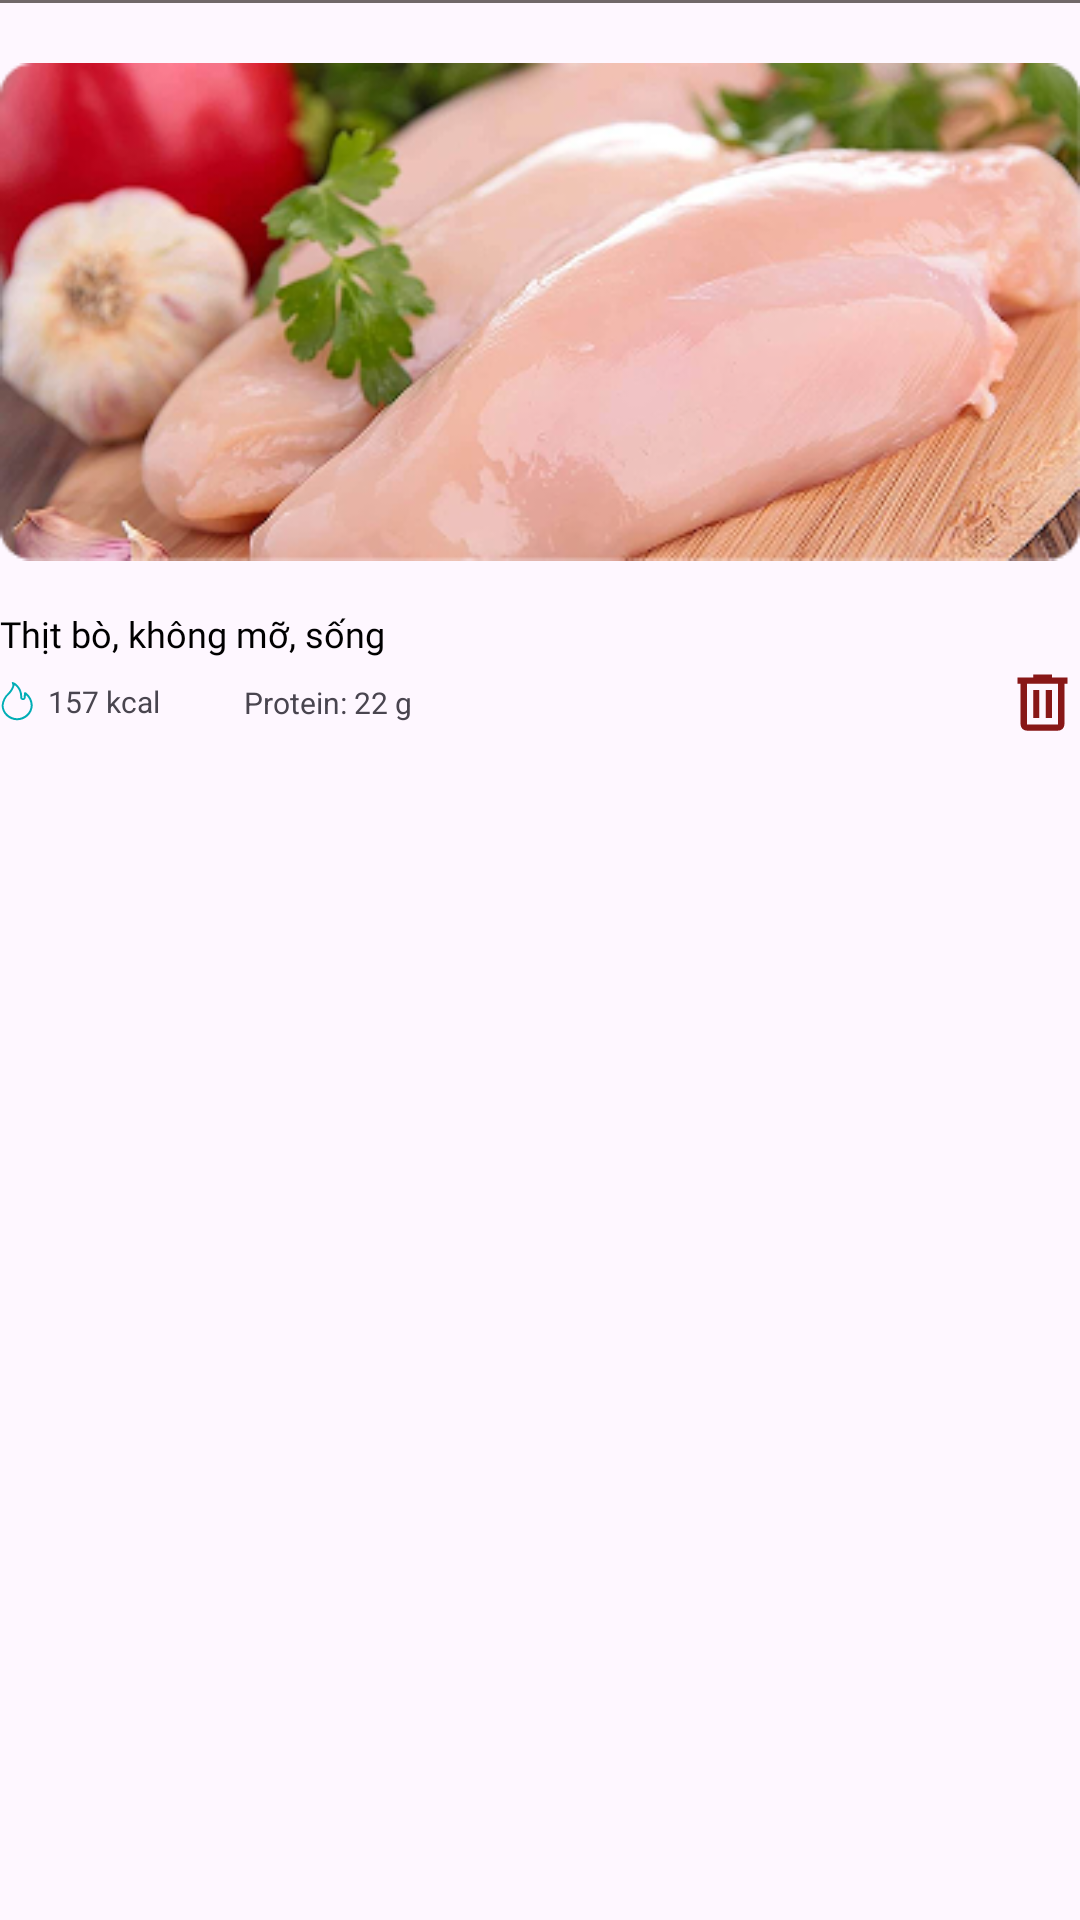

Where icons sit on this 1080px×1920px app screen, as (x1, y1, x2, y2):
calories: (1, 682, 33, 721)
delete: (1017, 674, 1068, 731)
